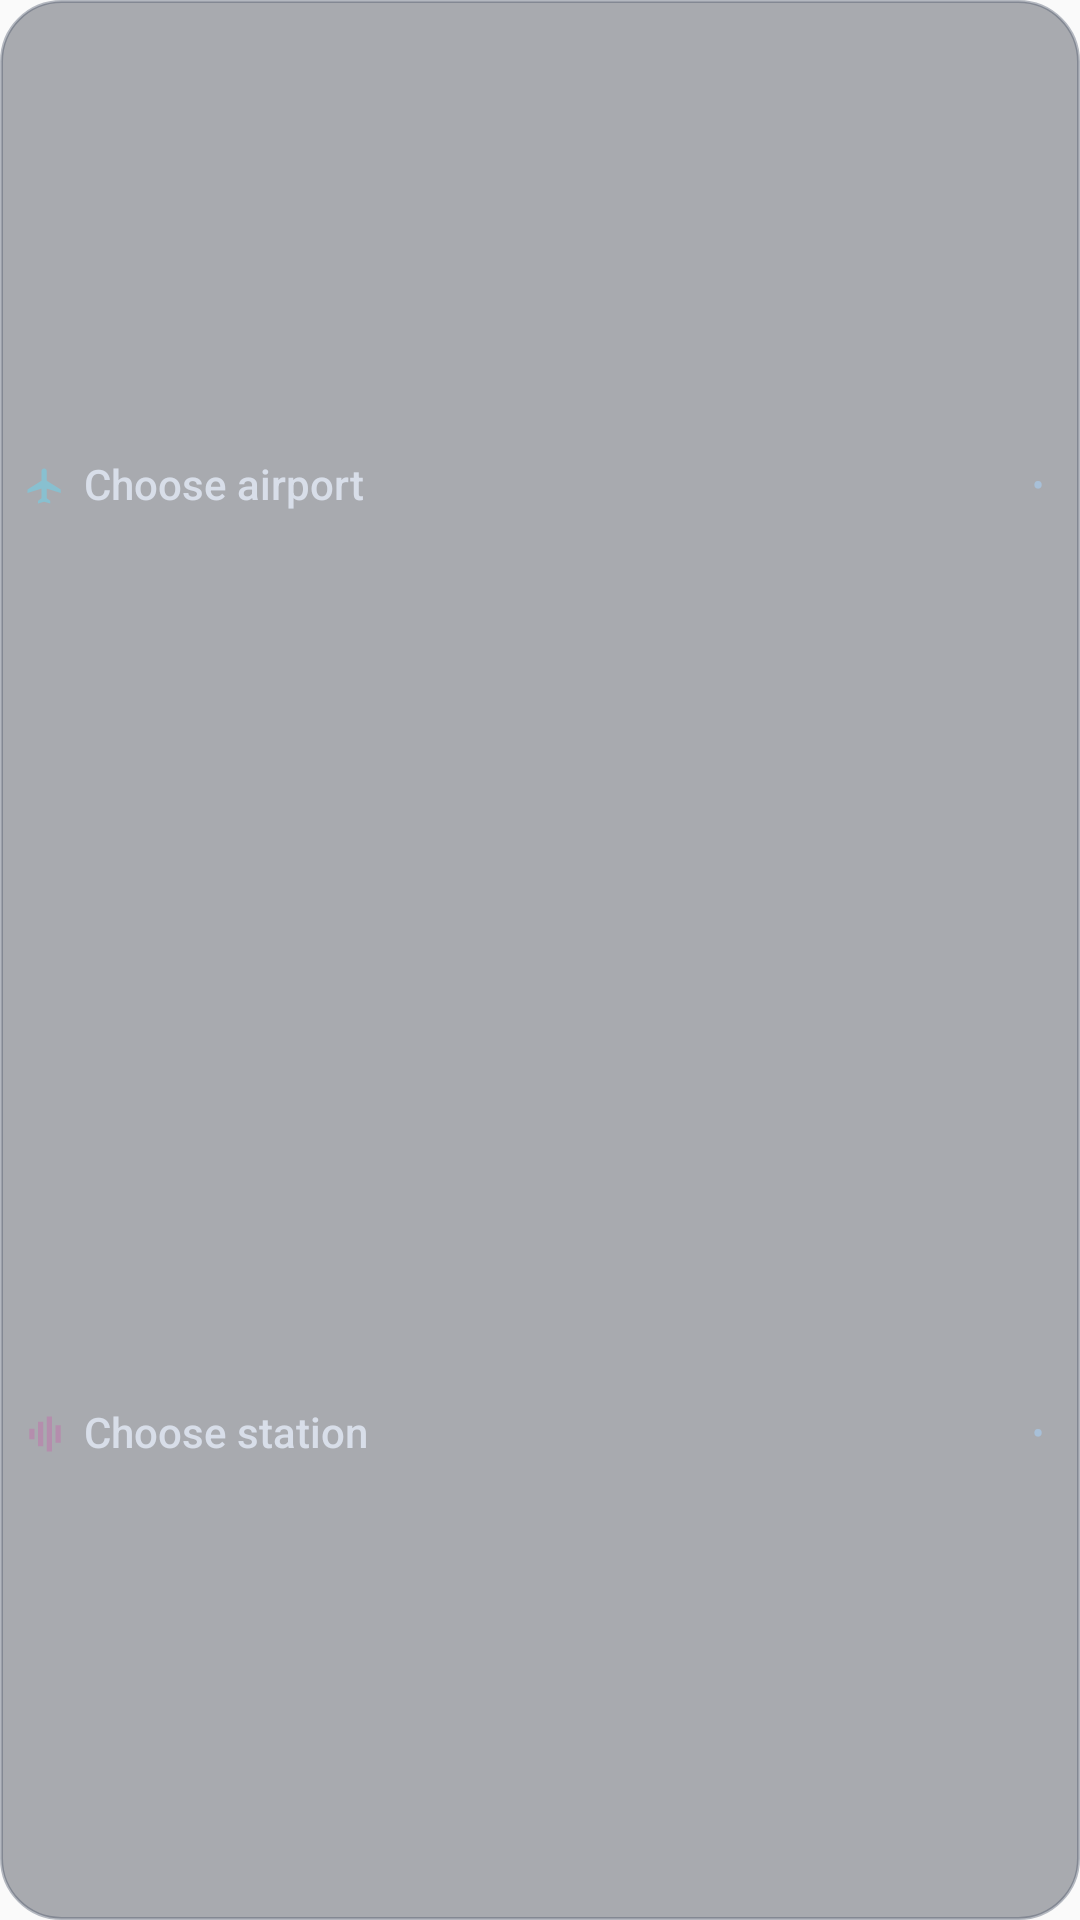

Screen size 1080x1920. Icon name, then its box in pixels as bbox=[x1, y1, x2, y2]:
widget airport: bbox=[28, 469, 60, 503]
